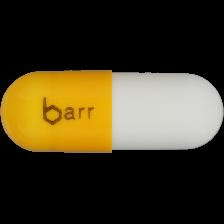0555-0633: (0, 0, 224, 224)
